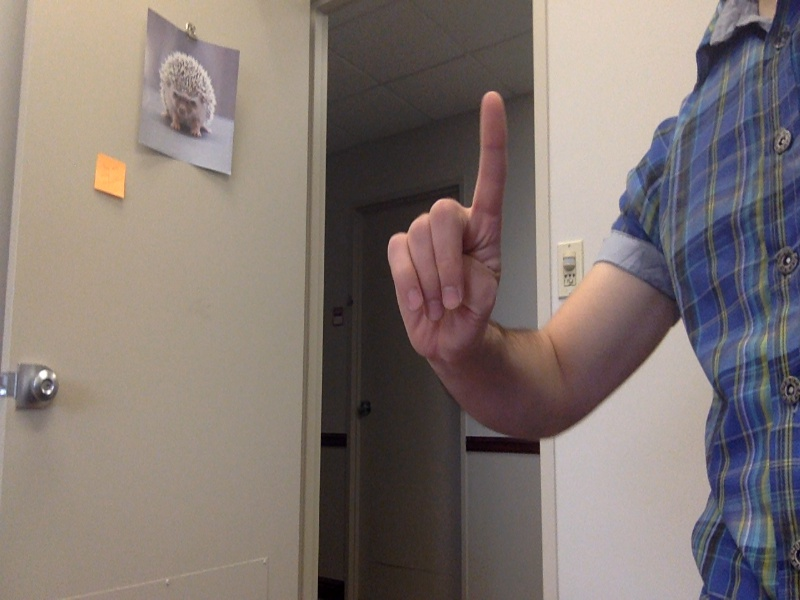1-hand: (385, 91, 510, 374)
